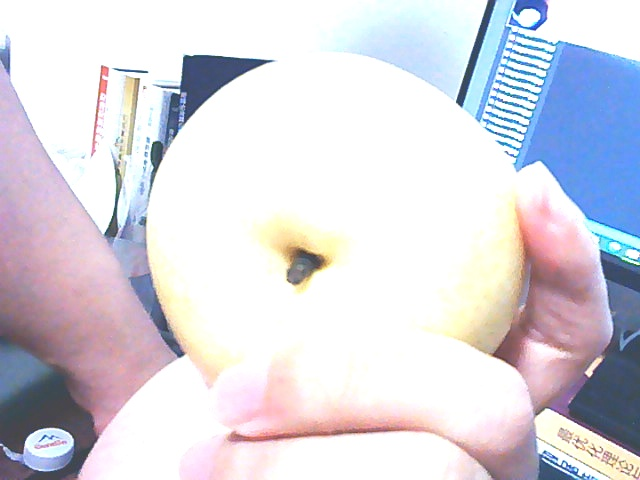pear: (147, 61, 531, 380)
